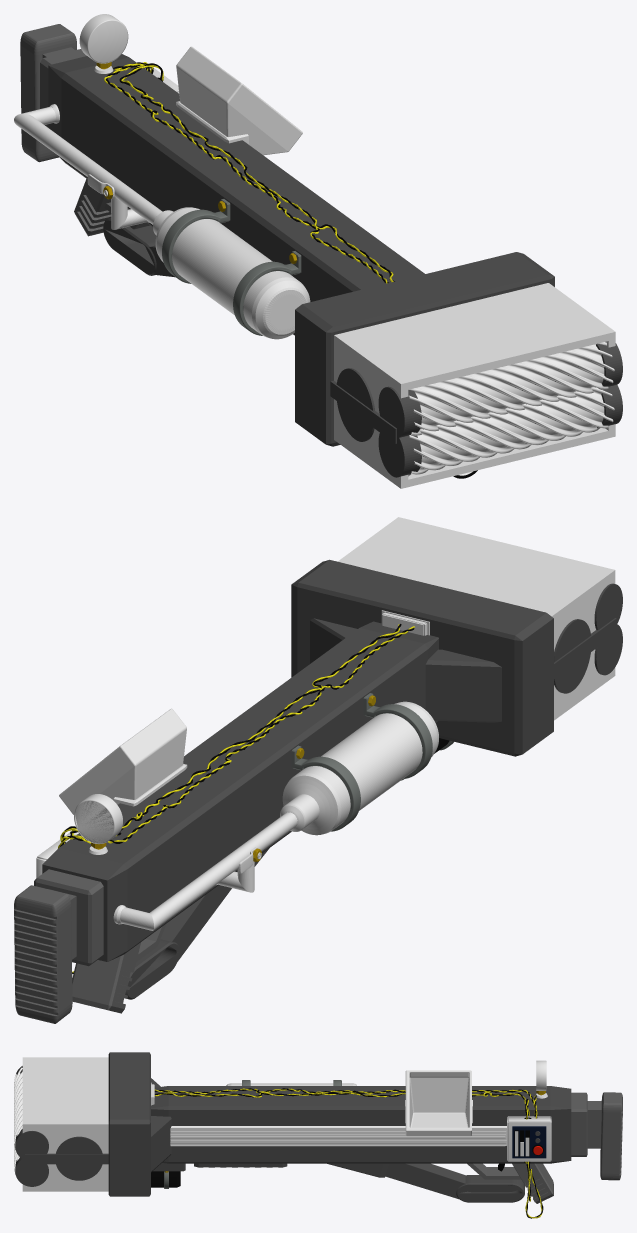
Rendered from PaperShredderShotGun.fbx.
The picture shows the model from 3 angles, top to bottom: view 1: azimuth 30°, elevation 25°; view 2: azimuth 150°, elevation 25°; view 3: azimuth 270°, elevation 25°; orthographic projection. The views are drawn at different scales.
Visible parts, largest first — view 1: main; view 2: main; view 3: main.
Part boxes in pixels (x1,y1,x2,y2): main: [14, 14, 622, 488]; main: [14, 517, 622, 1023]; main: [14, 1052, 622, 1218].
Bounding box in the file's own units: 61.78 × 56.96 × 222.
